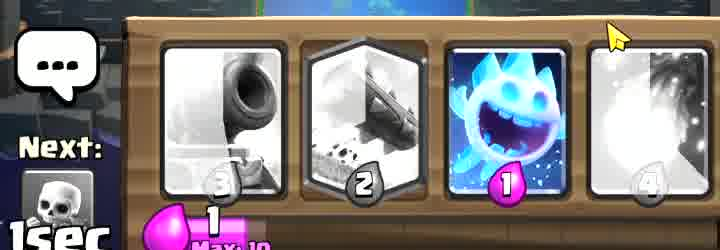ice-spirit: (451, 46, 568, 201)
